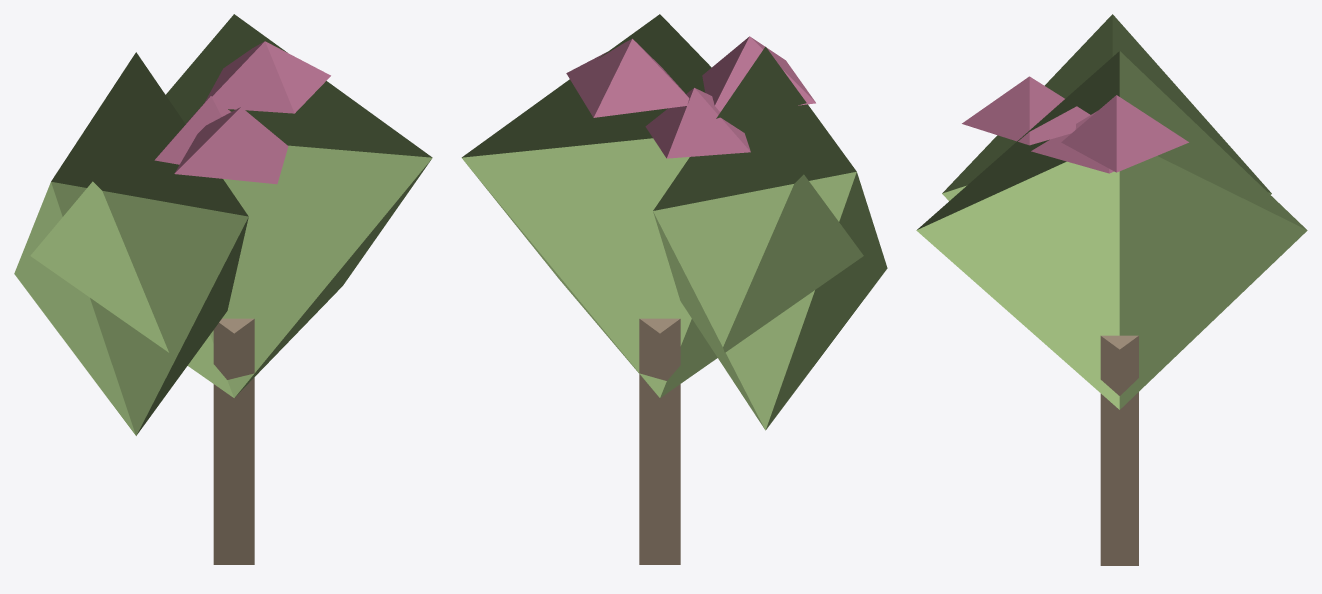
The model's file is sprout.temp.shrub_seedling__bloom.glb.
3 views of the same model, side by side, from view 1: azimuth 30°, elevation 25°; view 2: azimuth 150°, elevation 25°; view 3: azimuth 270°, elevation 25° (orthographic). The views are drawn at different scales.
Visible parts, largest first — view 1: sprout.temp.shrub_seedling__bloom; view 2: sprout.temp.shrub_seedling__bloom; view 3: sprout.temp.shrub_seedling__bloom.
Boxes of the visible parts, bbox=[...] form: sprout.temp.shrub_seedling__bloom: bbox=[14, 14, 432, 564]; sprout.temp.shrub_seedling__bloom: bbox=[461, 14, 887, 564]; sprout.temp.shrub_seedling__bloom: bbox=[916, 14, 1307, 565].
Bounding box in the file's own units: 0.5383 × 0.677 × 0.462.
